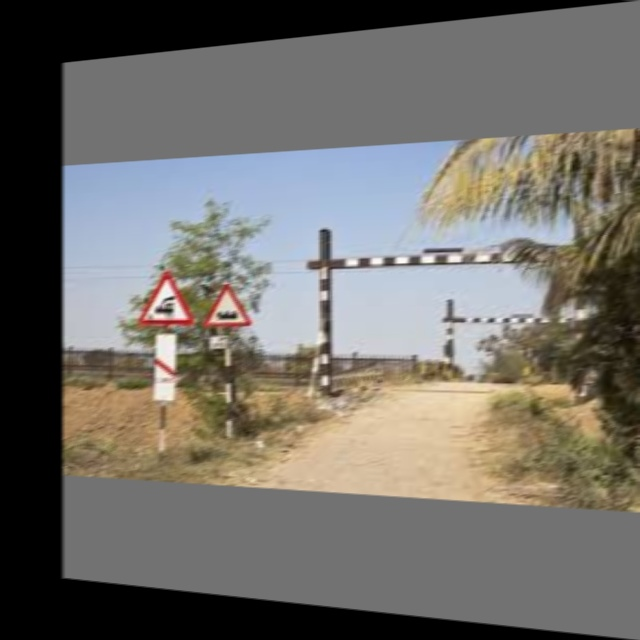Unguarded_Level_Crossing: (140, 263, 193, 331)
